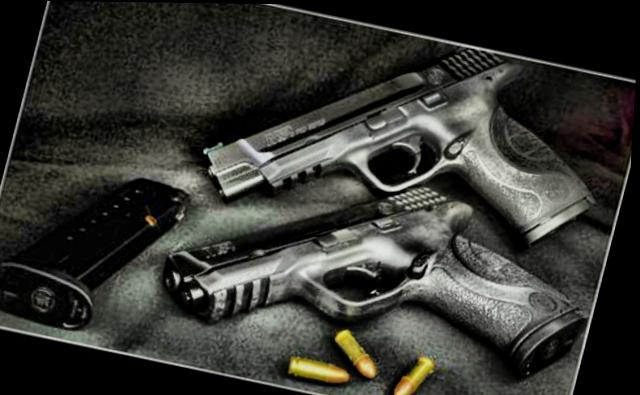pistol: (177, 2, 628, 280), (149, 133, 610, 395)
